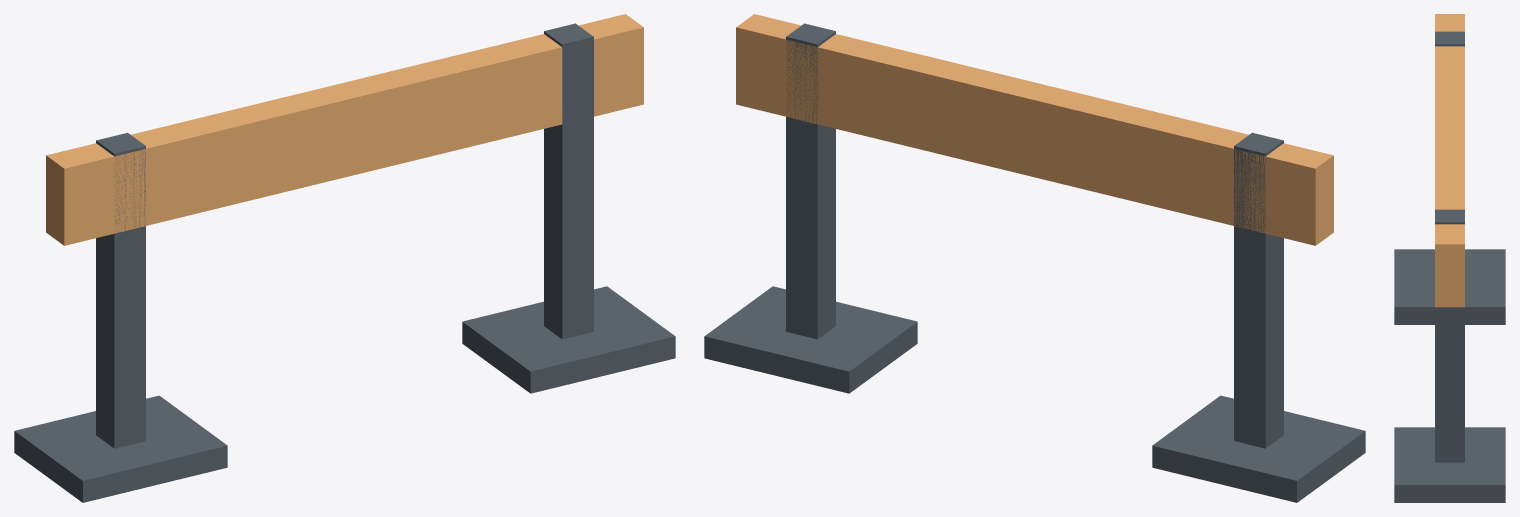
File: barrier_lod0.glb
3 views of the same model, side by side, from view 1: azimuth 30°, elevation 25°; view 2: azimuth 150°, elevation 25°; view 3: azimuth 270°, elevation 25° (orthographic). The views are drawn at different scales.
Parts seen in each view (by area): view 1: part_0, part_3, part_2, part_4, part_1; view 2: part_0, part_1, part_3, part_2, part_4; view 3: part_0, part_4, part_2, part_3, part_1.
Boxes of the visible parts, bbox=[...] form: part_0: bbox=[46, 14, 643, 245]; part_3: bbox=[544, 23, 593, 339]; part_2: bbox=[14, 395, 227, 502]; part_4: bbox=[462, 286, 675, 393]; part_1: bbox=[96, 132, 145, 448]; part_0: bbox=[736, 14, 1333, 245]; part_1: bbox=[1234, 132, 1283, 448]; part_3: bbox=[786, 23, 835, 339]; part_2: bbox=[1152, 395, 1365, 502]; part_4: bbox=[704, 286, 917, 393]; part_0: bbox=[1435, 14, 1464, 307]; part_4: bbox=[1394, 427, 1505, 502]; part_2: bbox=[1394, 249, 1505, 324]; part_3: bbox=[1435, 209, 1464, 462]; part_1: bbox=[1435, 31, 1464, 46].
Bounding box in the file's own units: 2.25 × 1.2 × 0.45.
